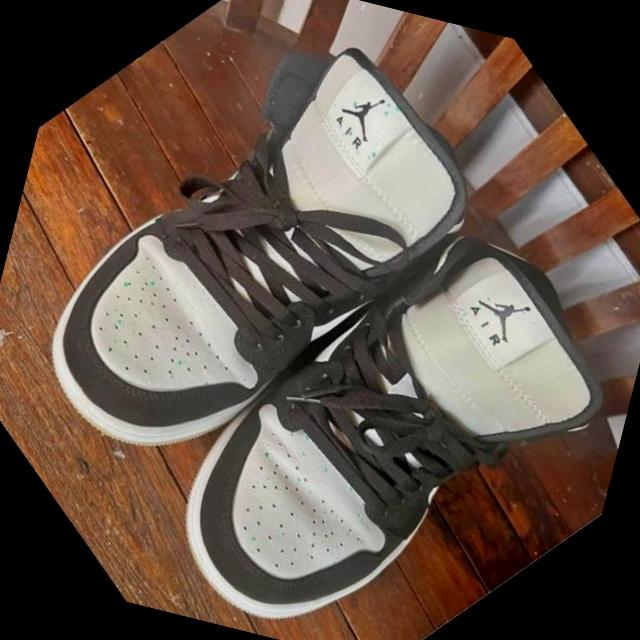nike_fake_jordan: (0, 0, 551, 569), (97, 139, 640, 640)
